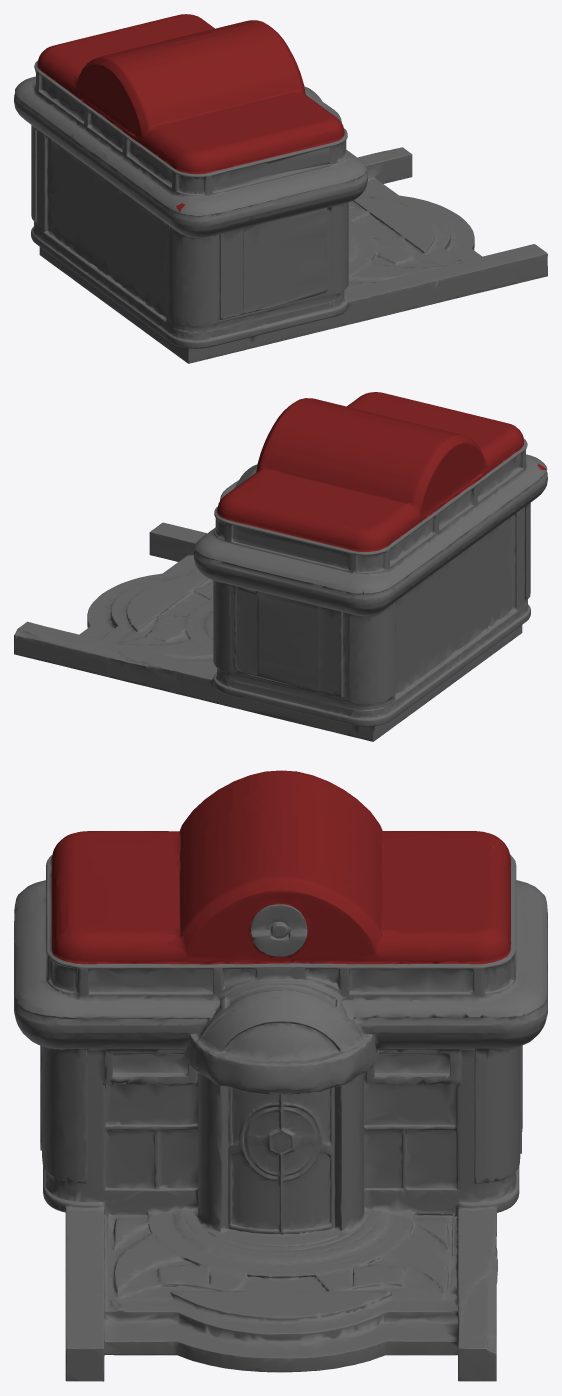
Rendered from Centro.obj.
The picture shows the model from 3 angles, top to bottom: view 1: azimuth 30°, elevation 25°; view 2: azimuth 150°, elevation 25°; view 3: azimuth 270°, elevation 25°; orthographic projection. The views are drawn at different scales.
Parts seen in each view (by area): view 1: tripo_convert_be4603ec_49a2_46d4_946a_661abb6bcb52:Mesh; view 2: tripo_convert_be4603ec_49a2_46d4_946a_661abb6bcb52:Mesh; view 3: tripo_convert_be4603ec_49a2_46d4_946a_661abb6bcb52:Mesh.
Part boxes in pixels (x1,y1,x2,y2): tripo_convert_be4603ec_49a2_46d4_946a_661abb6bcb52:Mesh: (14,14,547,363); tripo_convert_be4603ec_49a2_46d4_946a_661abb6bcb52:Mesh: (14,392,547,741); tripo_convert_be4603ec_49a2_46d4_946a_661abb6bcb52:Mesh: (14,770,547,1381).
Bounding box in the file's own units: 28.88 × 18.07 × 24.32.
